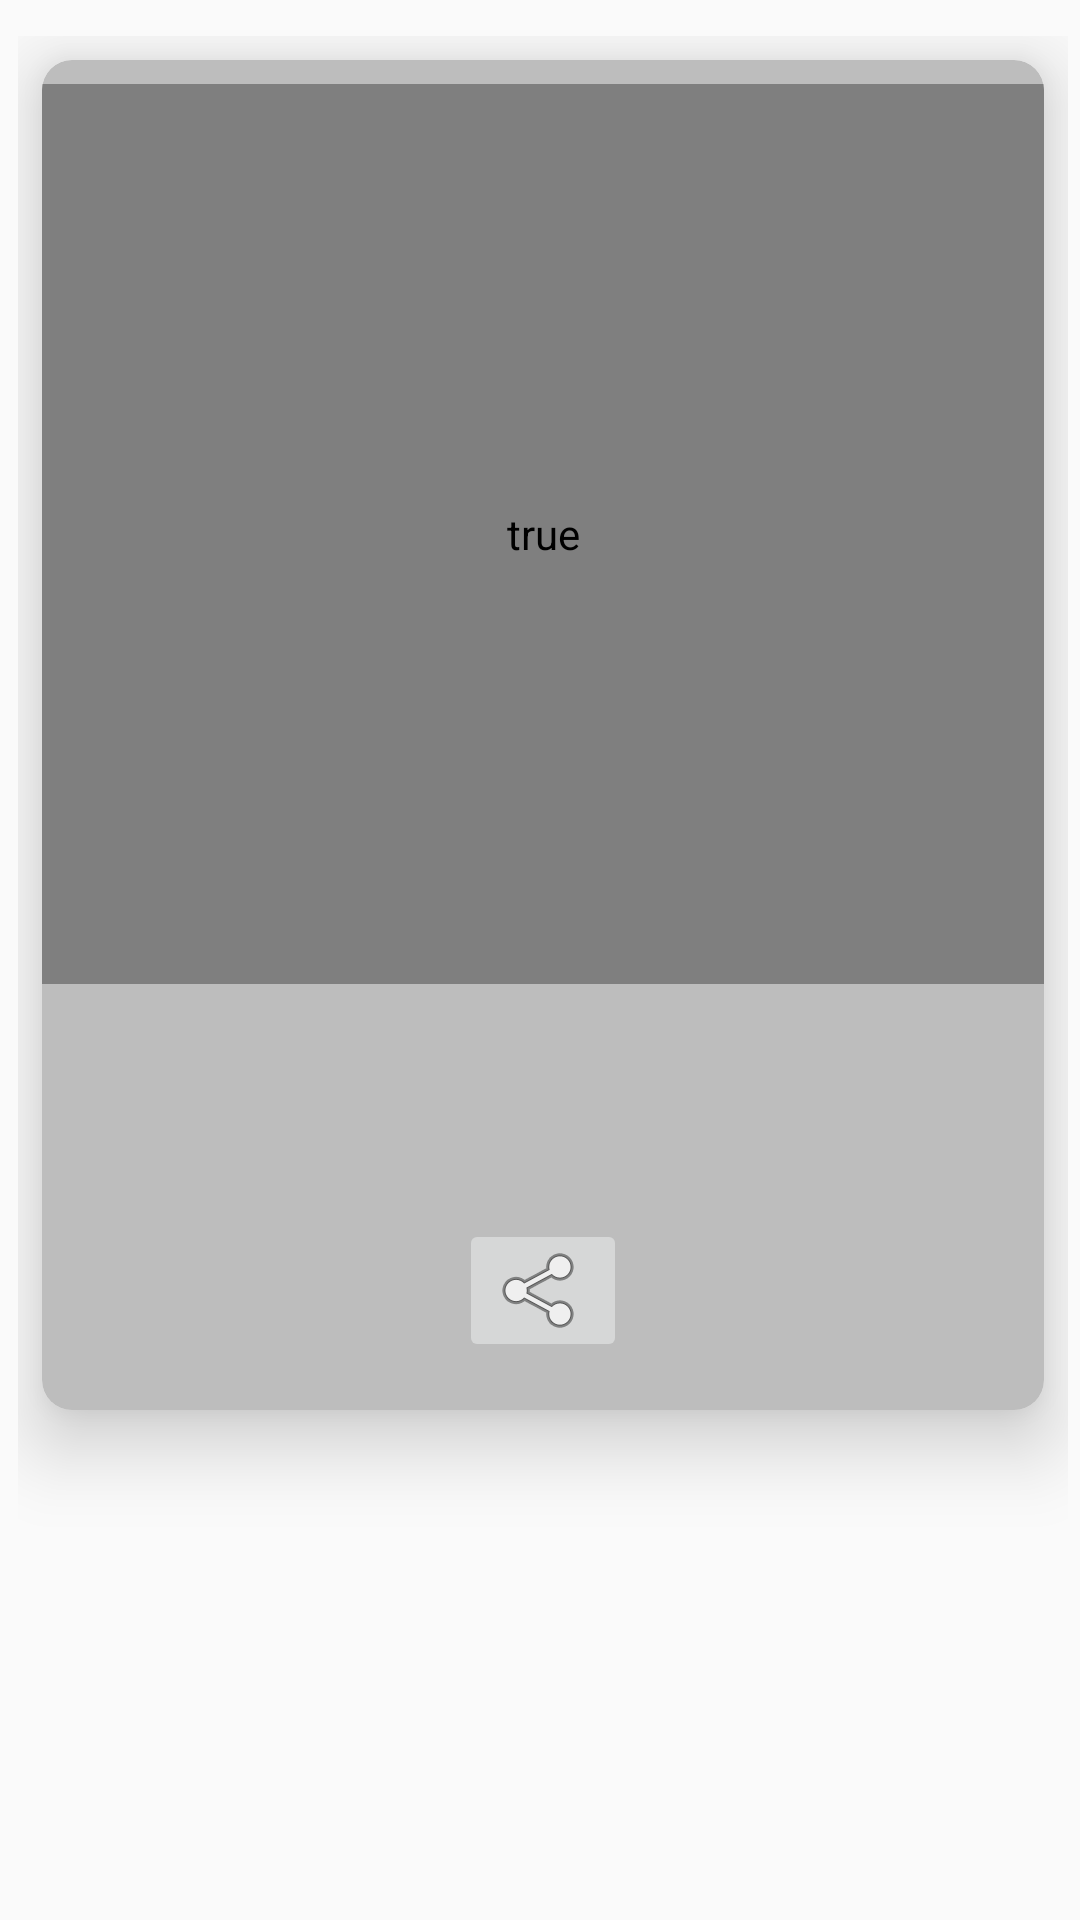

Icon bounding boxes for this 1080×1920 phone screenshot, format bbox=[x1, y1, x2, y2]:
share: bbox=[471, 1237, 615, 1344]
